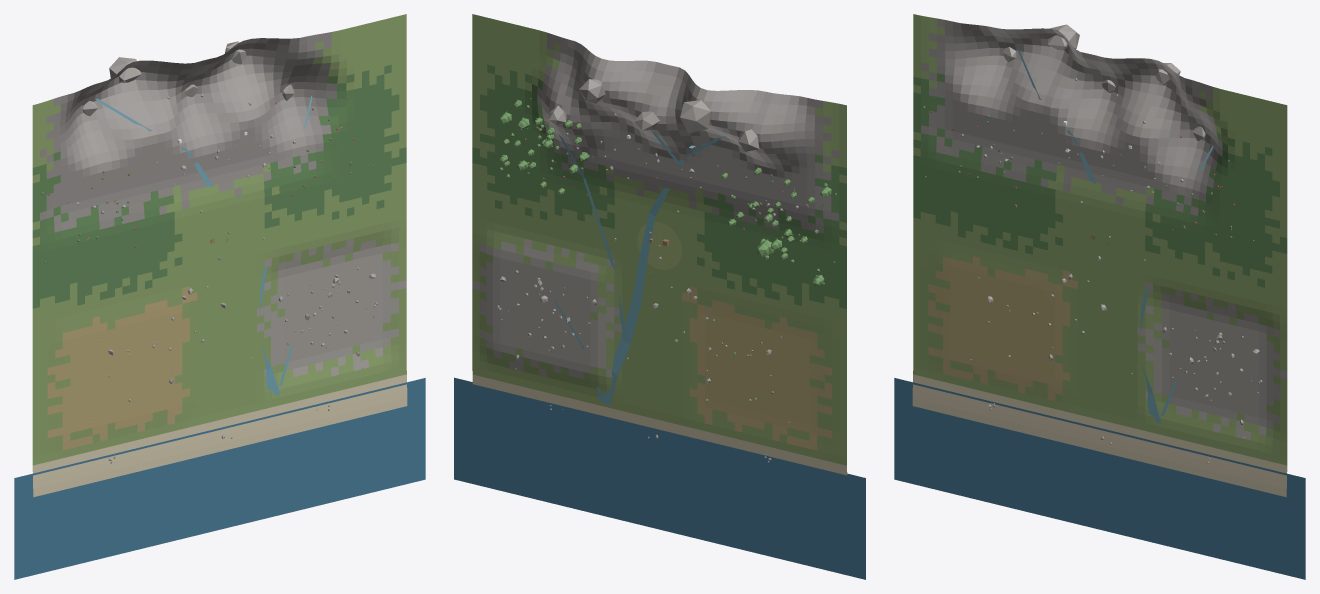
Rendered from PrehistoricTerrain.fbx.
3 renders of one model, left to right at view 1: azimuth 30°, elevation 25°; view 2: azimuth 150°, elevation 25°; view 3: azimuth 330°, elevation 25°, orthographic.
Visible parts, largest first — view 1: Terrain_Main, Sea_Main, LANDMARK_MountainPeak; view 2: Terrain_Main, Sea_Main, River_Main, StartArea_Center, LANDMARK_MountainPeak, Stream_East; view 3: Terrain_Main, Sea_Main, LANDMARK_MountainPeak.
Part boxes in pixels (x1,y1,x2,y2): Terrain_Main: [32, 14, 407, 497]; Sea_Main: [14, 378, 425, 579]; LANDMARK_MountainPeak: [109, 57, 140, 82]; Terrain_Main: [472, 14, 847, 475]; Sea_Main: [454, 377, 865, 579]; River_Main: [597, 132, 681, 405]; StartArea_Center: [637, 222, 681, 269]; LANDMARK_MountainPeak: [680, 100, 711, 133]; Stream_East: [545, 110, 627, 341]; Terrain_Main: [912, 14, 1287, 497]; Sea_Main: [894, 378, 1305, 579]; LANDMARK_MountainPeak: [1048, 24, 1079, 50].
Size of the model in its own units: 22000 by 24000 by 3647.
